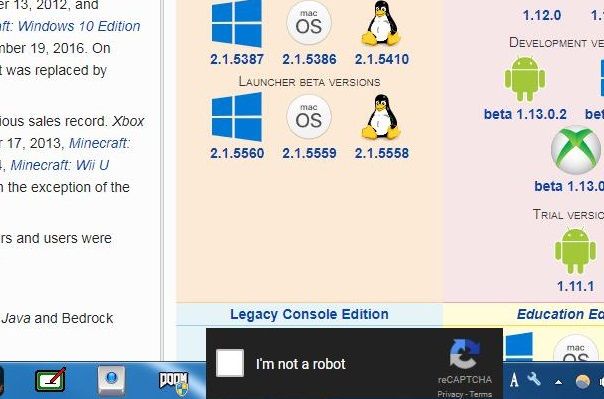captcha: (216, 349, 347, 377)
